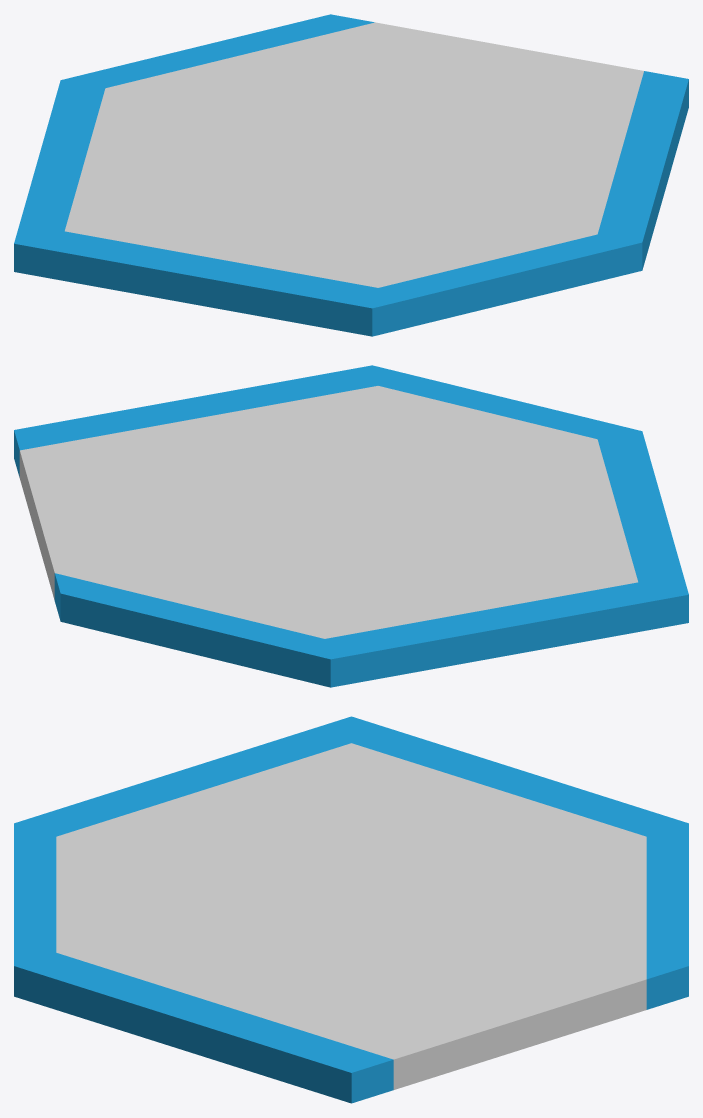
3 views of the same model, one above another, from view 1: azimuth 30°, elevation 25°; view 2: azimuth 150°, elevation 25°; view 3: azimuth 270°, elevation 25° (orthographic). The views are drawn at different scales.
Parts seen in each view (by area): view 1: Hexagon, SWx, Sx, SE.001, NWx, N.001; view 2: Hexagon, NWx, N.001, SE.001, SWx, Sx; view 3: Hexagon, SE.001, NWx, SWx, N.001, Sx.
Boxes of the visible parts, <box> form: Hexagon: <box>65,22,643,287</box>; SWx: <box>14,231,377,336</box>; Sx: <box>372,234,642,336</box>; SE.001: <box>598,71,688,269</box>; NWx: <box>14,80,105,243</box>; N.001: <box>61,14,374,88</box>; Hexagon: <box>19,386,637,638</box>; NWx: <box>325,582,688,687</box>; N.001: <box>54,573,330,687</box>; SE.001: <box>14,365,377,477</box>; SWx: <box>597,431,688,594</box>; Sx: <box>372,365,641,439</box>; Hexagon: <box>56,743,646,1089</box>; SE.001: <box>14,952,393,1103</box>; NWx: <box>351,716,688,836</box>; SWx: <box>14,716,351,836</box>; N.001: <box>646,823,688,1009</box>; Sx: <box>14,823,56,965</box>.
Size of the model in its own units: 5 by 4 by 0.2.
